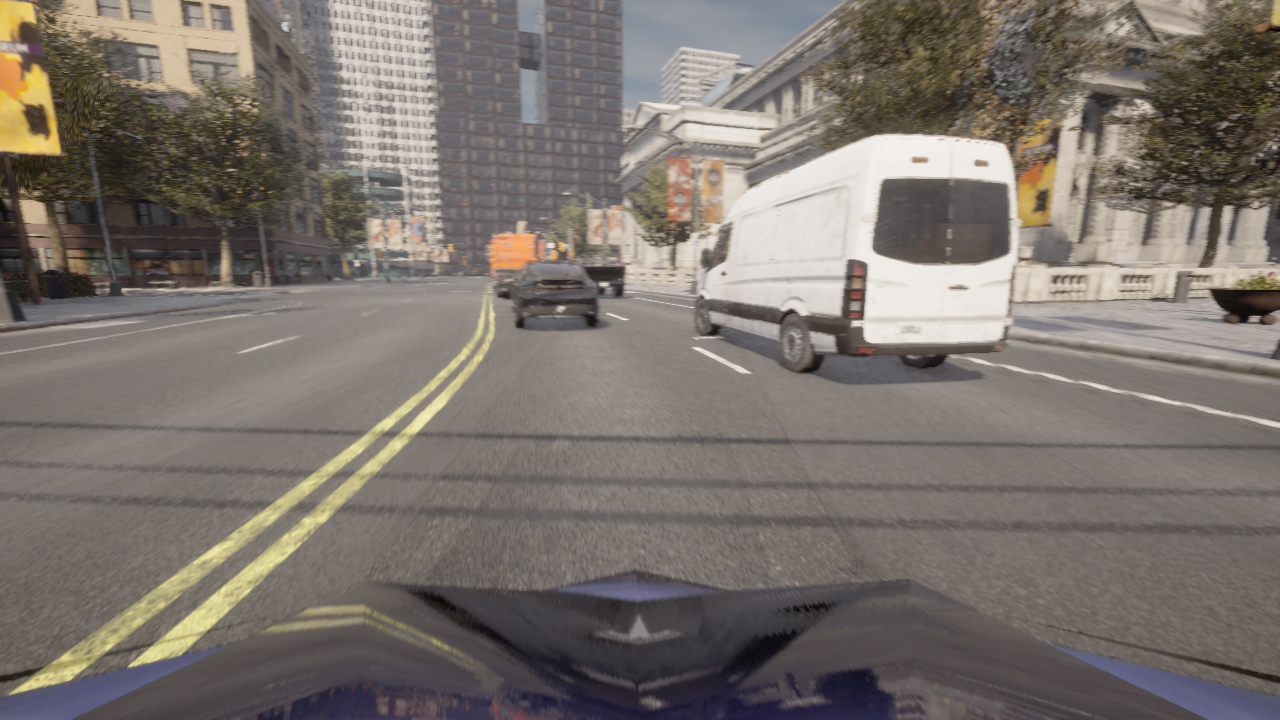cyclist: (0, 569, 1279, 719), (695, 135, 1020, 372), (504, 260, 598, 328), (487, 233, 545, 298), (571, 256, 625, 297), (488, 257, 493, 280), (398, 276, 406, 280), (489, 272, 492, 281)
